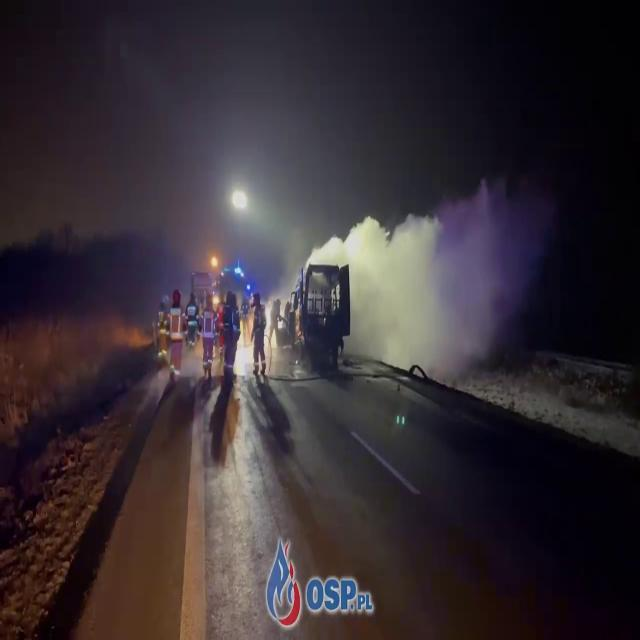Smoke: (341, 164, 552, 370)
